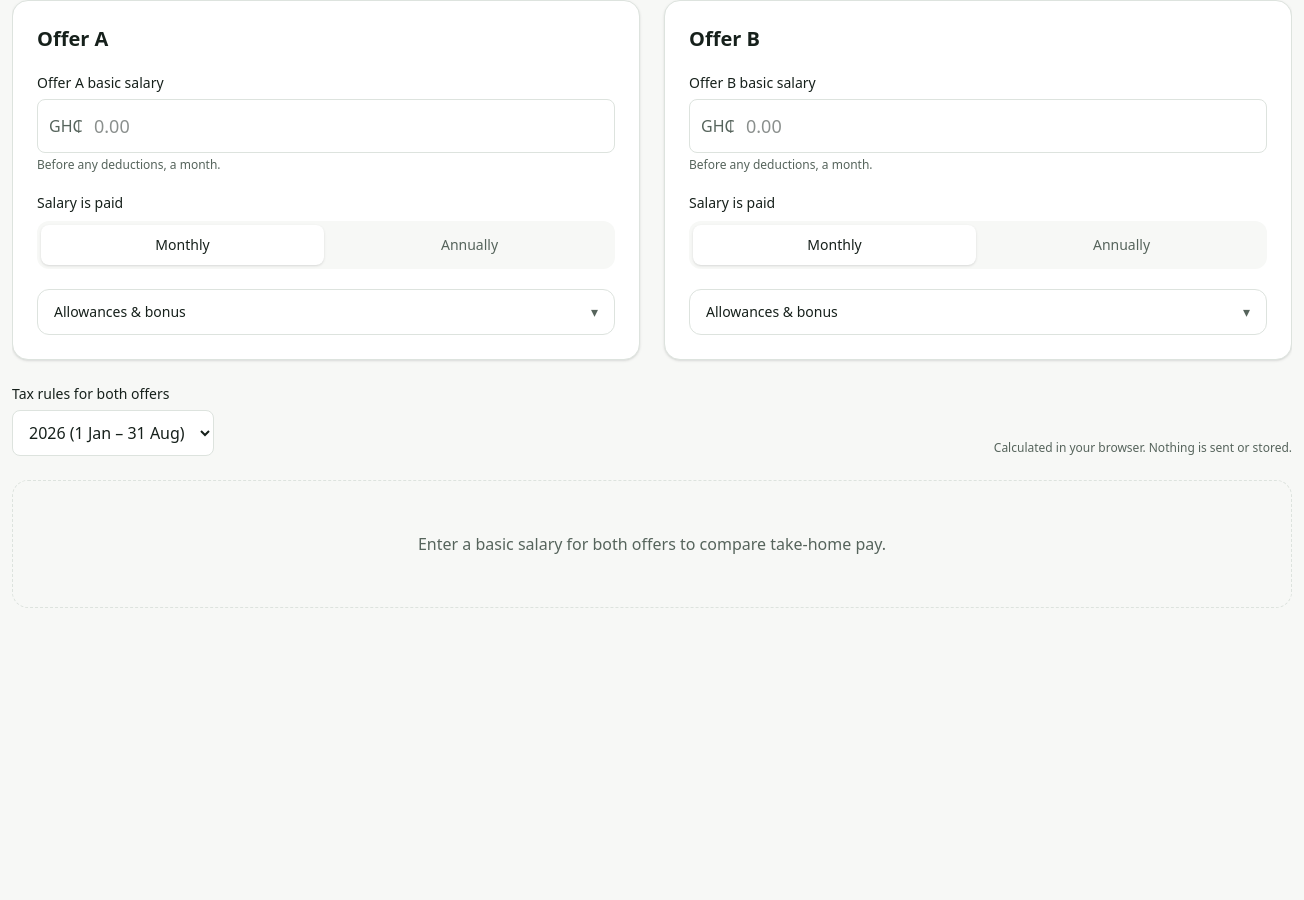
Test case: SalaryComparison › shows validation errors per offer
The width and height of the screenshot is (1304, 900).
Type "-5" into the field labelled "Offer B basic salary".
click(978, 126); type("-5")  # box left=689, top=99, right=1267, bottom=153
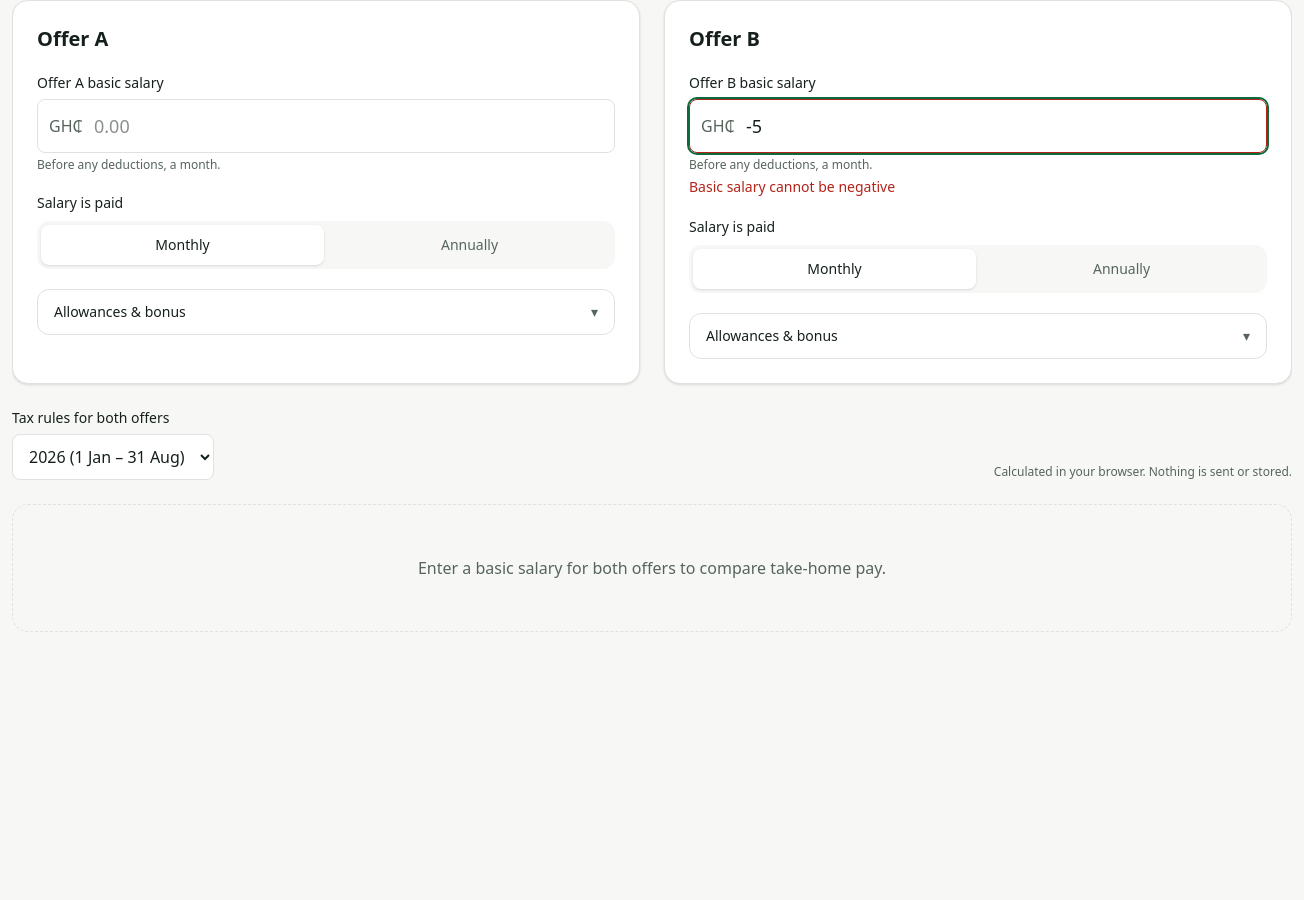
Check: the text "Basic salary cannot be negative" is shown, box left=689, top=177, right=895, bottom=196
